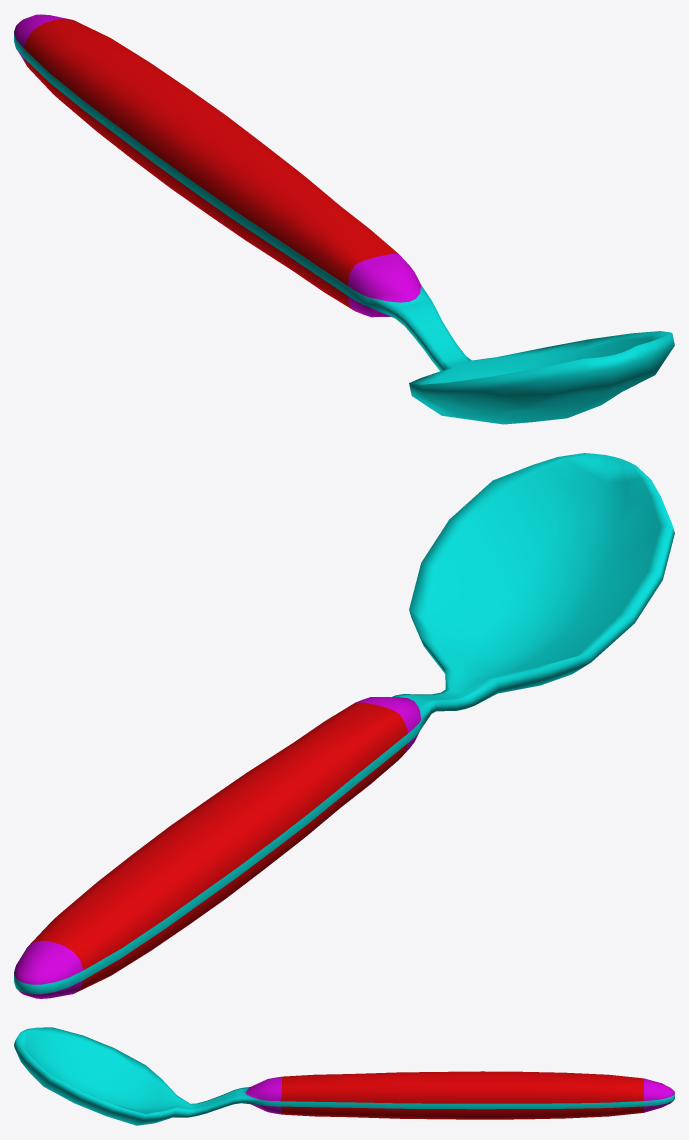
Rendered from spoon.fbx.
3 views of the same model, one above another, from view 1: azimuth 30°, elevation 25°; view 2: azimuth 150°, elevation 25°; view 3: azimuth 270°, elevation 25° (orthographic). The views are drawn at different scales.
Parts seen in each view (by area): view 1: Cube; view 2: Cube; view 3: Cube.
Boxes of the visible parts, box(x1,y1,x2,y2) form: Cube: box(14, 14, 674, 424); Cube: box(14, 453, 674, 998); Cube: box(14, 1027, 674, 1125).
Bounding box in the file's own units: 292 × 181 × 1414.
